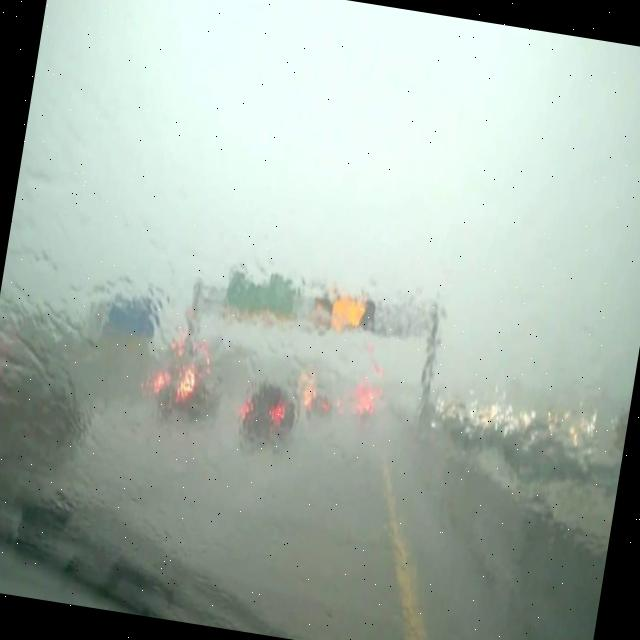car: (148, 354, 228, 430), (236, 376, 305, 453)
